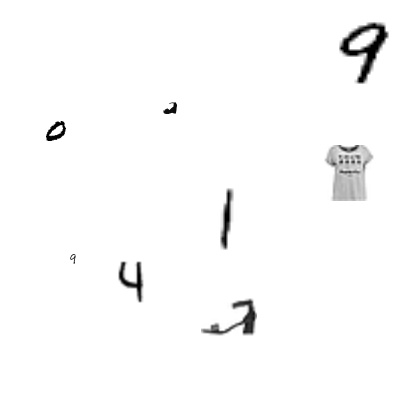0: (42, 117, 70, 145)
1: (182, 177, 266, 261)
4: (103, 250, 159, 306)
9: (322, 5, 406, 89), (66, 251, 80, 265)
Sandal: (201, 289, 257, 345), (163, 101, 177, 115)
T-shirt/top: (321, 145, 377, 201)
